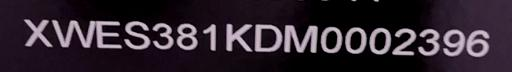letter: (50, 17, 94, 48), (283, 21, 319, 53), (252, 21, 284, 55), (19, 17, 53, 48), (93, 17, 123, 49), (120, 18, 150, 50), (222, 21, 252, 53), (388, 25, 416, 57), (318, 22, 344, 54), (342, 24, 368, 56), (466, 25, 492, 56), (440, 26, 466, 56), (174, 19, 198, 51), (416, 23, 440, 54), (367, 24, 391, 55), (200, 18, 220, 54), (151, 18, 173, 50)
